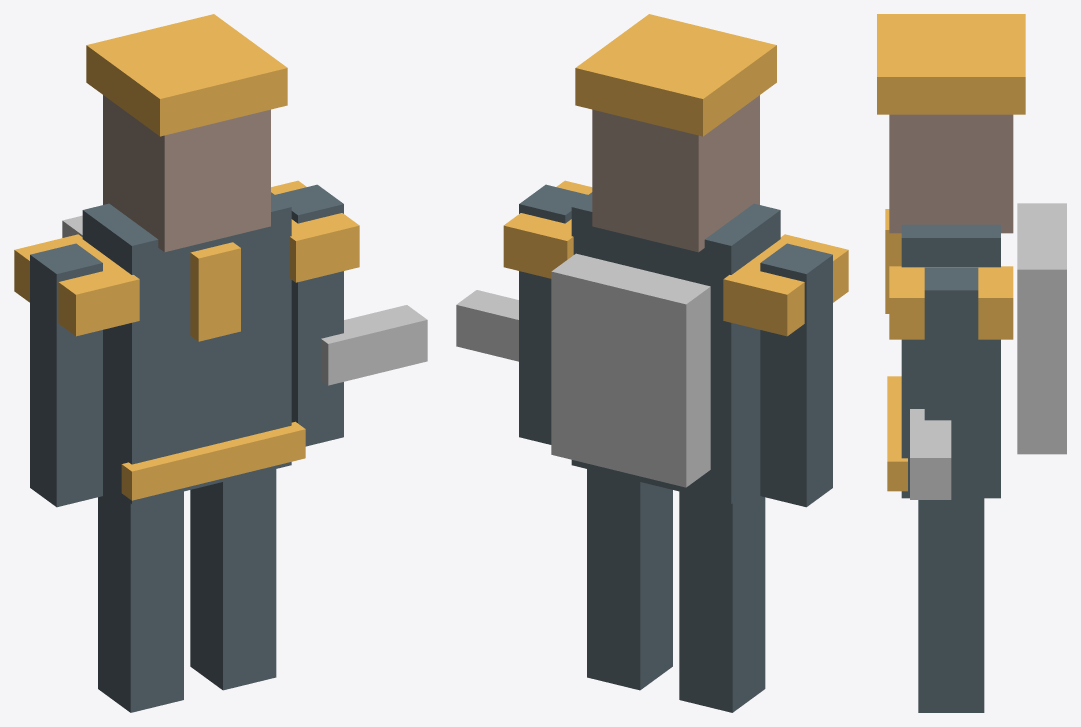
The model's file is 05_thorne_whispercoil_captain_at_prototype.glb.
The picture shows the model from 3 angles, left to right: view 1: azimuth 30°, elevation 25°; view 2: azimuth 150°, elevation 25°; view 3: azimuth 270°, elevation 25°; orthographic projection.
Visible parts, largest first — view 1: Thorne Whispercoil, Captain at Prototype; view 2: Thorne Whispercoil, Captain at Prototype; view 3: Thorne Whispercoil, Captain at Prototype.
Boxes of the visible parts, x1=… form: Thorne Whispercoil, Captain at Prototype: x1=14, y1=14, x2=427, y2=712; Thorne Whispercoil, Captain at Prototype: x1=456, y1=14, x2=848, y2=712; Thorne Whispercoil, Captain at Prototype: x1=877, y1=14, x2=1066, y2=712.
Size of the model in its own units: 0.9645 by 1.59 by 0.4328.
